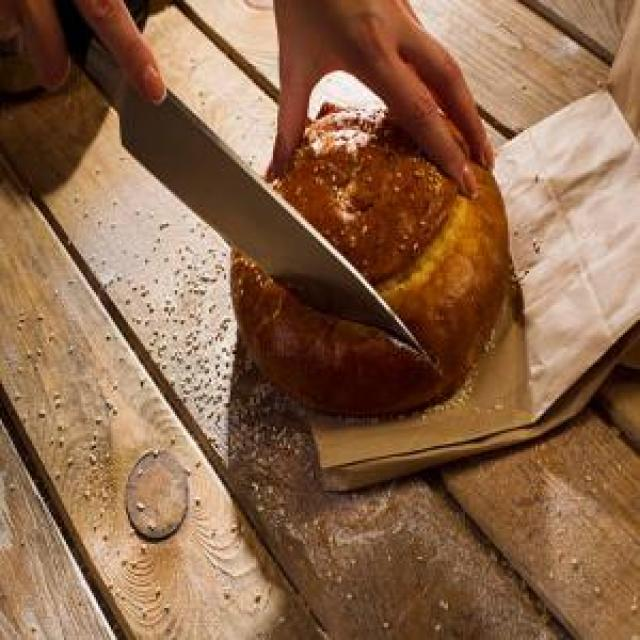knife: (49, 0, 436, 363)
